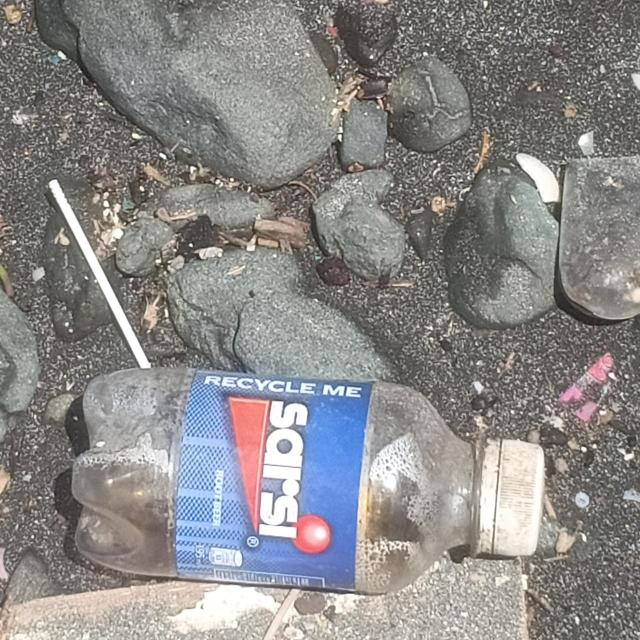plastic_waste: (72, 364, 556, 596), (47, 182, 148, 373), (557, 350, 615, 424)
